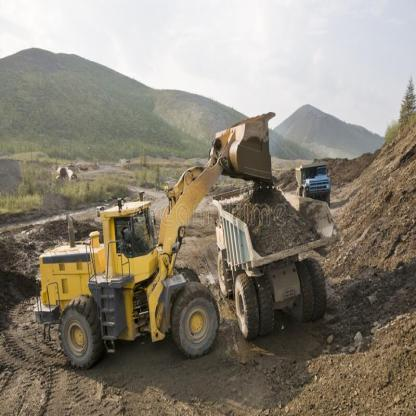bull_dozer/loader/grader: (24, 107, 278, 359)
dump_truck: (215, 186, 344, 342), (289, 144, 338, 210)
